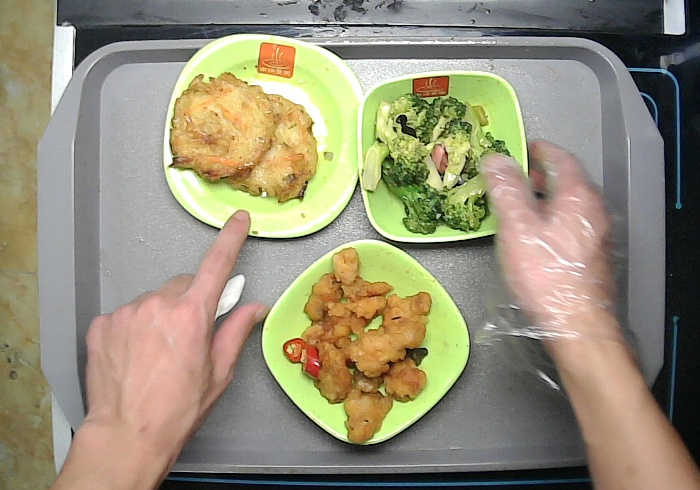SHKJ-Lv_Se_Cai_Die: (258, 236, 474, 449)
SHKJ-Lv_Se_Si_Fang_Cai_Die: (159, 28, 370, 246)
SHKJ-Lv_Se_Xiao_Fang_Die: (354, 67, 532, 248)
